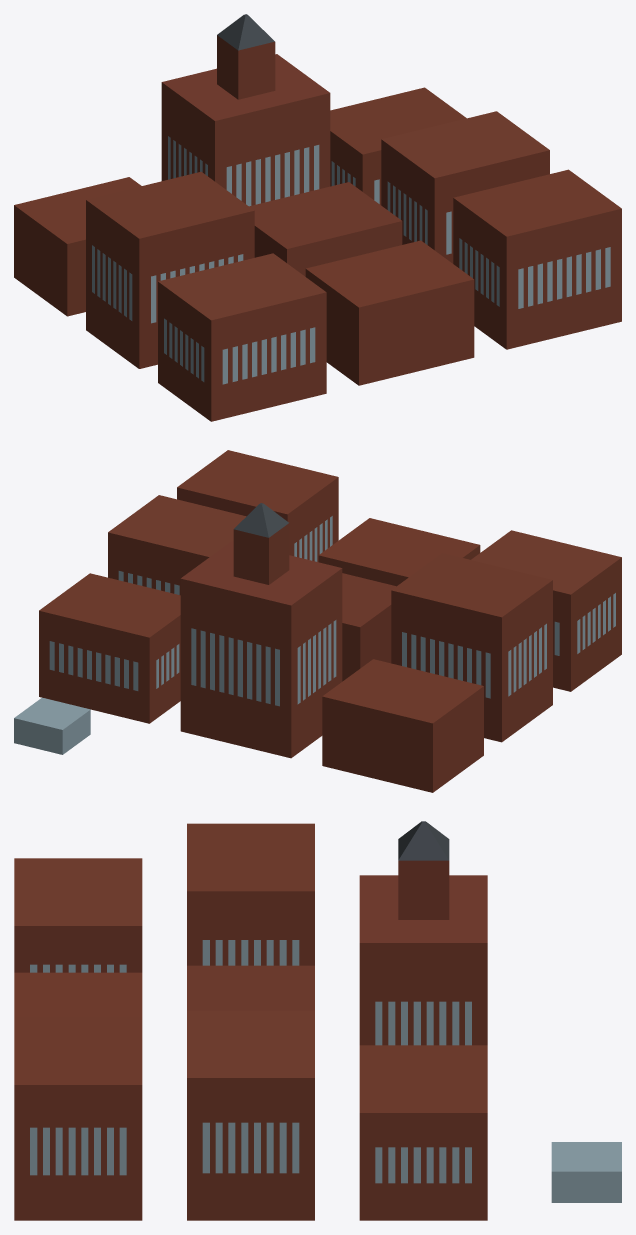
3 renders of one model, top to bottom at view 1: azimuth 30°, elevation 25°; view 2: azimuth 150°, elevation 25°; view 3: azimuth 270°, elevation 25°, orthographic. The views are drawn at different scales.
Visible parts, largest first — view 1: dumbo-lod3; view 2: dumbo-lod3; view 3: dumbo-lod3.
Part boxes in pixels (bbox=[...]): dumbo-lod3: bbox=[14, 14, 621, 421]; dumbo-lod3: bbox=[14, 450, 621, 792]; dumbo-lod3: bbox=[14, 821, 621, 1220].
Size of the model in its own units: 178 by 95.99 by 190.
